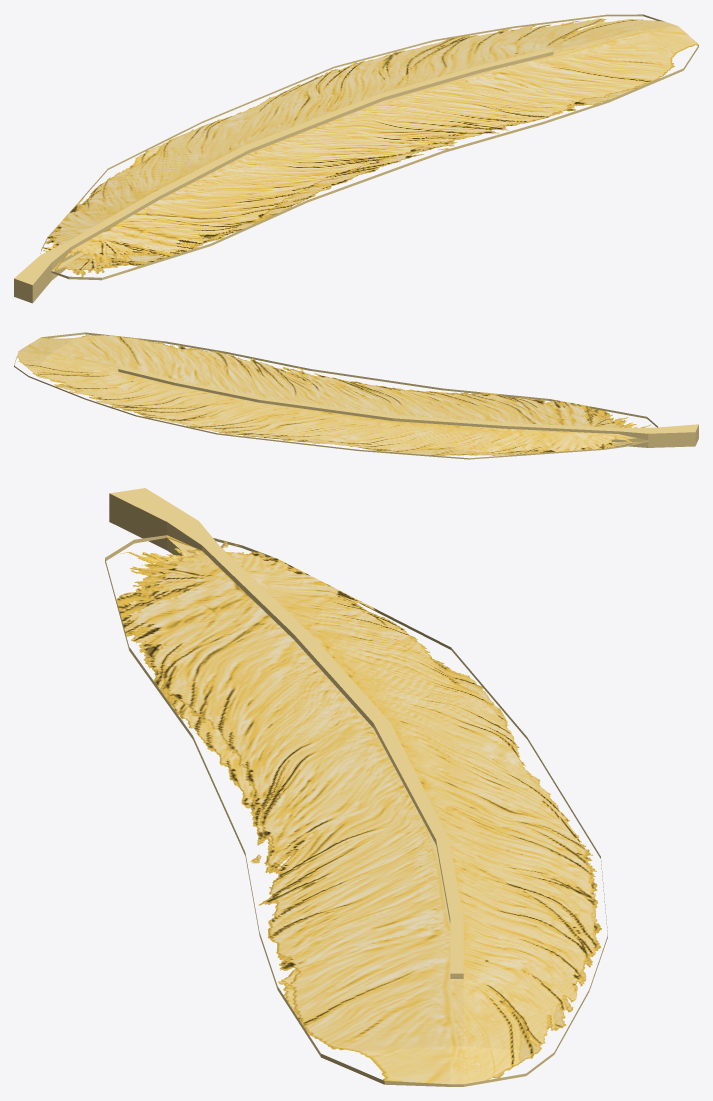
File: collectable_feather.fbx
The picture shows the model from 3 angles, top to bottom: view 1: azimuth 30°, elevation 25°; view 2: azimuth 150°, elevation 25°; view 3: azimuth 270°, elevation 25°; orthographic projection. The views are drawn at different scales.
Parts seen in each view (by area): view 1: Plane; view 2: Plane; view 3: Plane.
Part boxes in pixels (x1,y1,x2,y2): Plane: (14,14,698,303); Plane: (14,332,698,459); Plane: (105,488,607,1086).
Bounding box in the file's own units: 1000 × 22.82 × 365.
